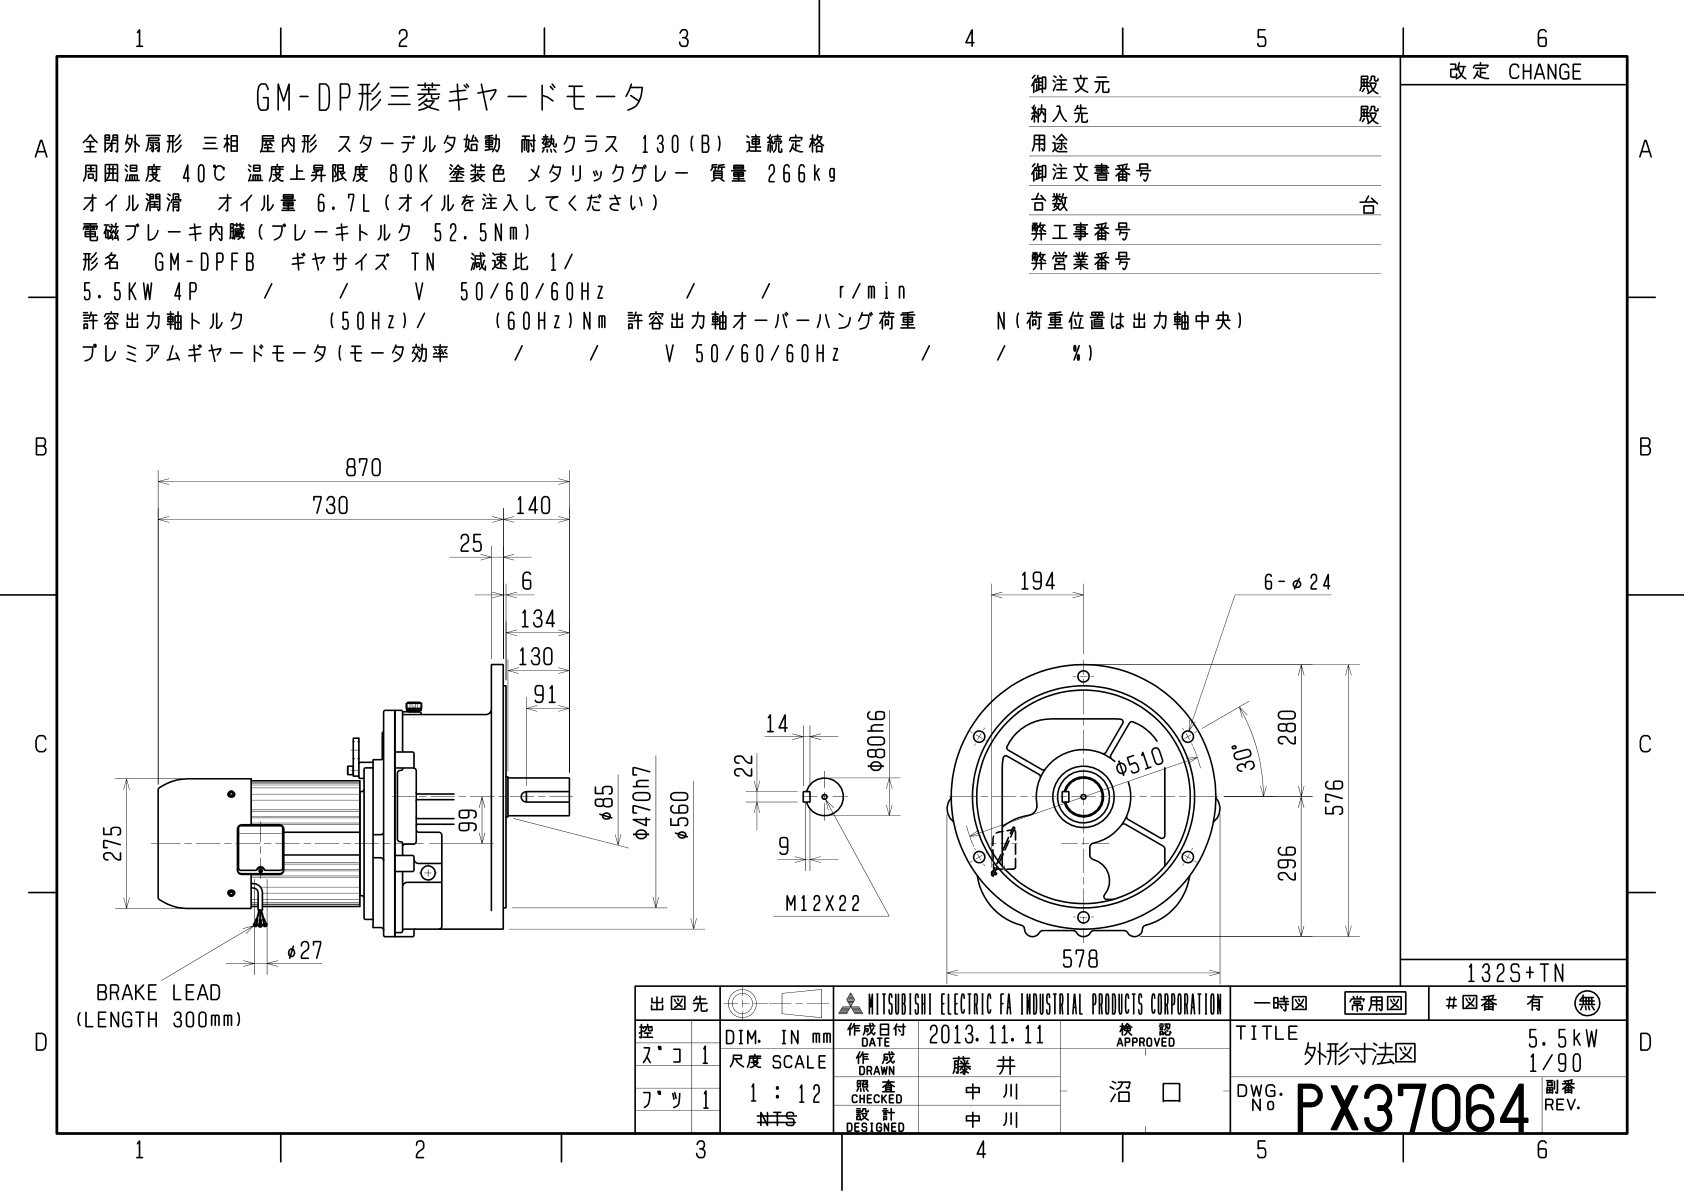GM_DP_屋内_三相_フランジ: (81, 396, 1389, 978)
